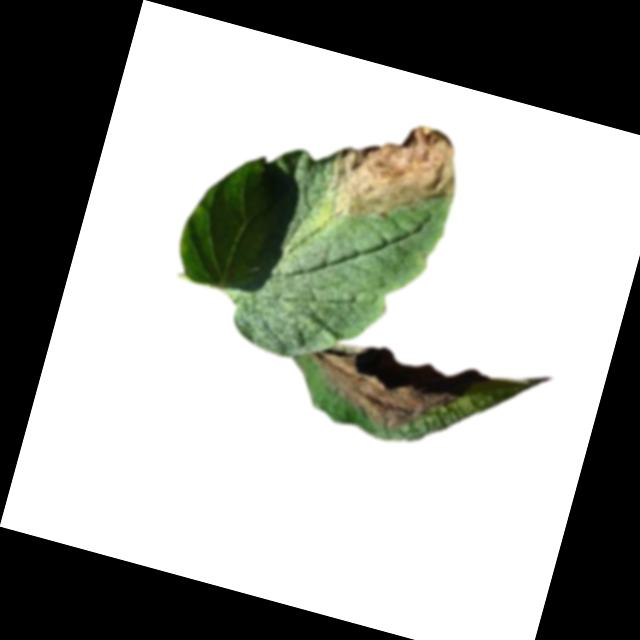Late_blight: (315, 102, 470, 246), (304, 346, 462, 444)
